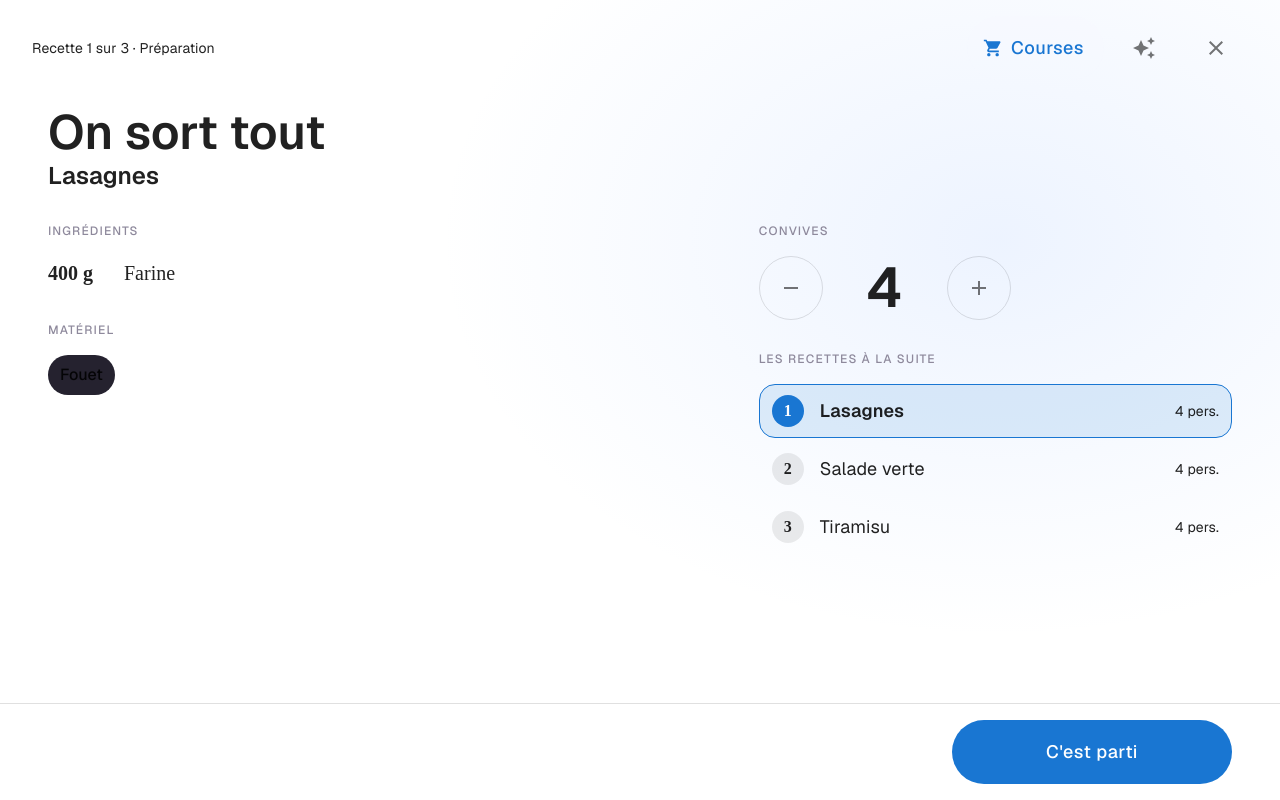
Test: CookingActivityPage › the guests of the preparation change the quantities
Click the button named "Un de plus".
click(979, 288)  # box [947,256,1011,320]
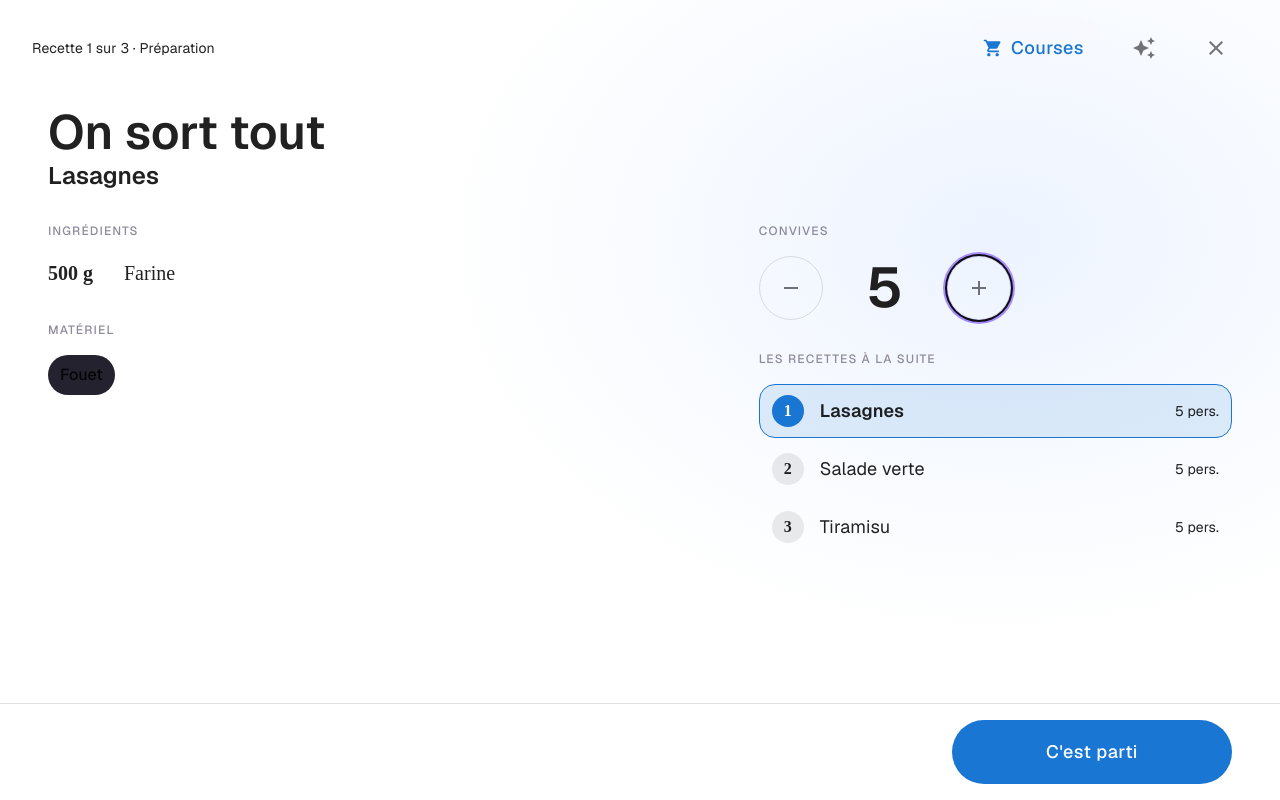
Expected: the text with test id "cooking-guests-value" reads "5", [866,251,904,324]
Expected: the list item with test id "cooking-ingredient" shows "500", [48,262,93,284]
